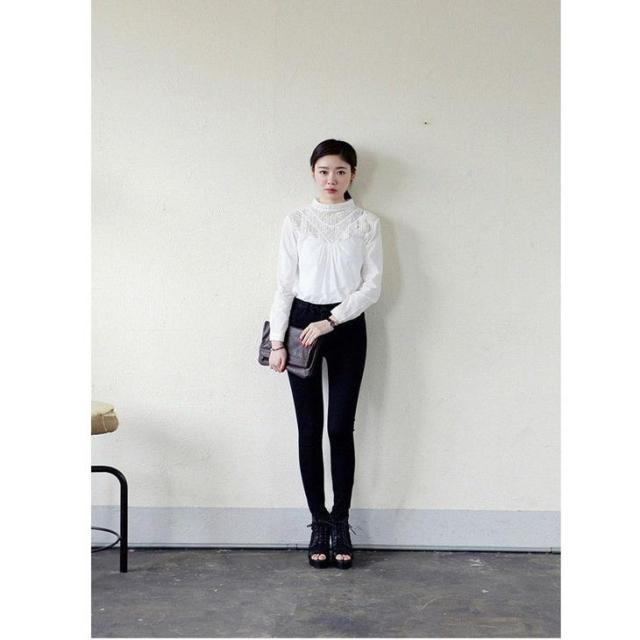long sleeve top: (272, 199, 383, 340)
trousers: (286, 298, 363, 514)
